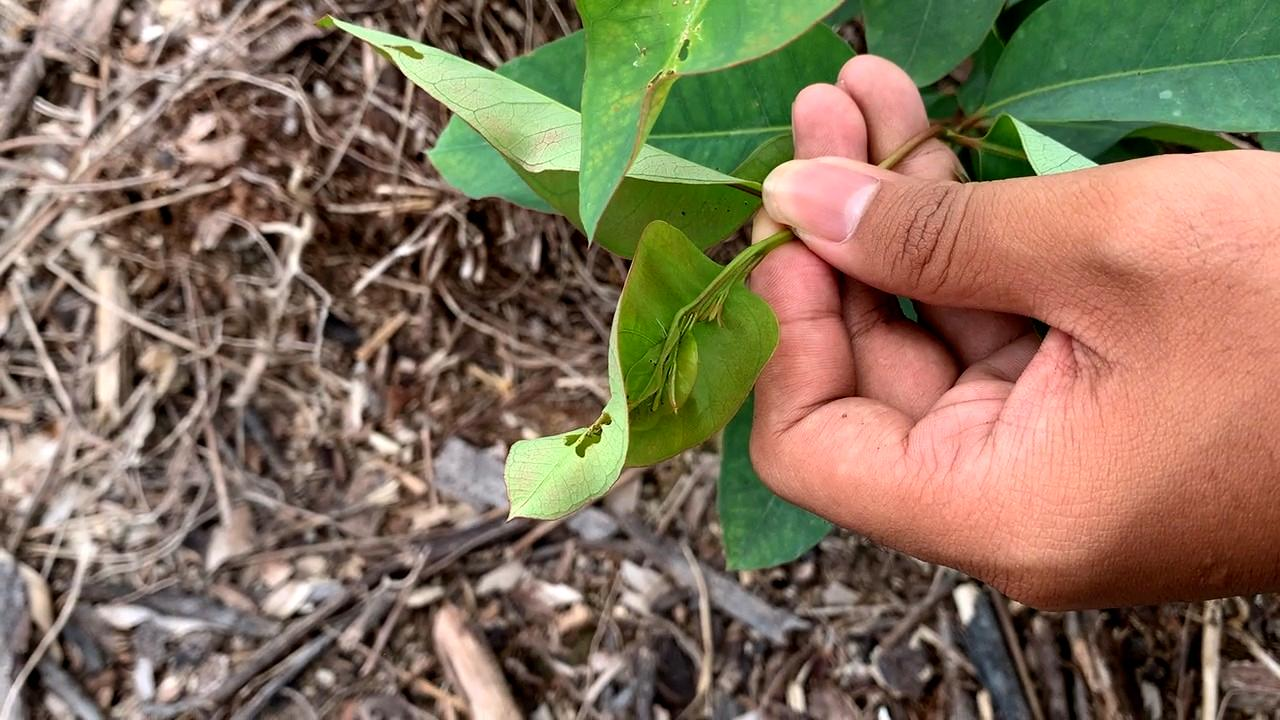Leaf Roller - Leaf: (513, 246, 760, 542)
